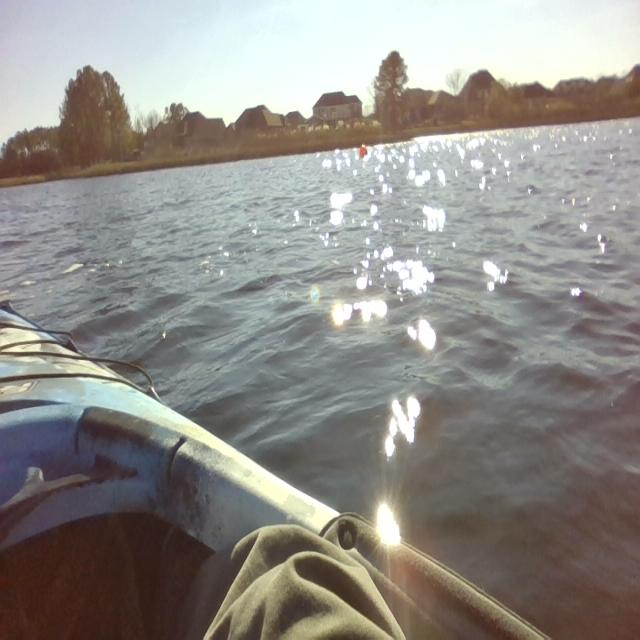Buoy: (356, 142, 374, 165)
